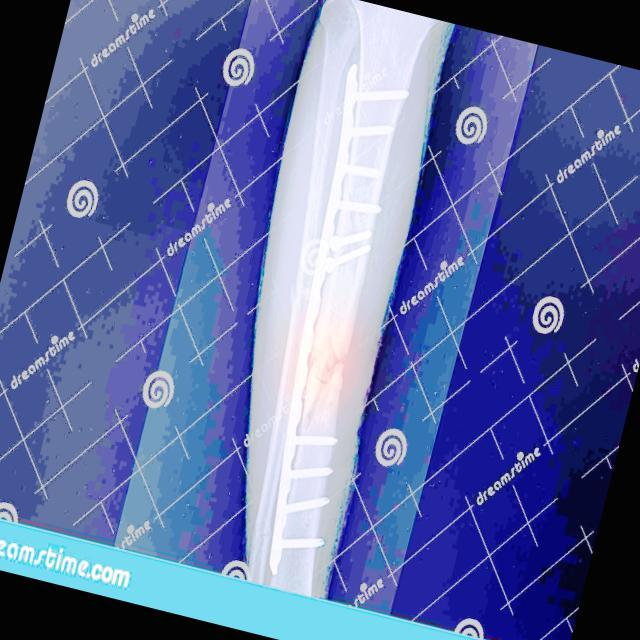Comminuted Fracture: (282, 315, 364, 427)
